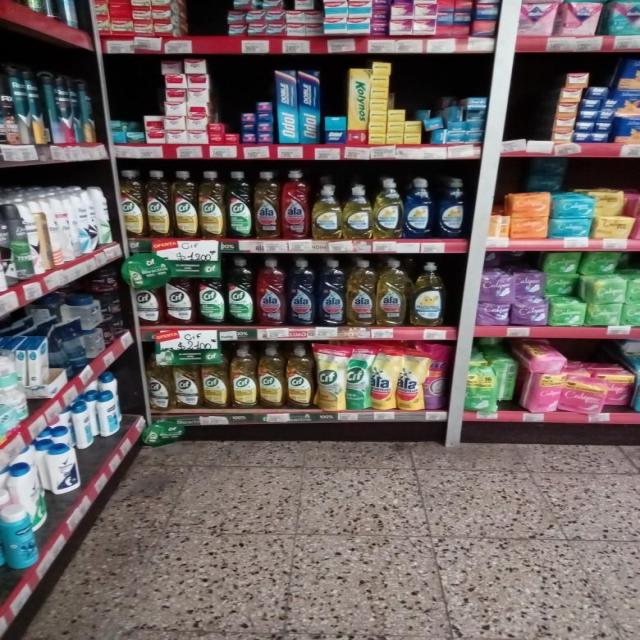ala_conc_amarillo: (376, 258, 408, 327), (347, 258, 375, 327), (253, 170, 280, 240)
ala_conc_azul: (317, 258, 345, 327), (288, 258, 316, 327)
ala_conc_rojo: (256, 258, 286, 327), (281, 169, 310, 240)
cif_conc_bot_amarilla: (118, 169, 145, 238), (198, 170, 225, 238), (286, 345, 314, 409), (146, 169, 171, 238), (172, 170, 197, 238), (230, 346, 257, 408), (202, 344, 228, 408), (258, 344, 284, 408), (174, 347, 200, 409), (146, 349, 172, 411)
cif_conc_botella_roja: (165, 270, 196, 326), (132, 281, 164, 326)
cif_conc_botella_verde: (198, 256, 225, 326), (227, 256, 254, 326), (226, 170, 252, 239)
cif_conc_sachet_amarillo: (316, 343, 345, 411)
magistral_con_amarillo: (411, 261, 447, 327), (374, 178, 402, 240), (312, 184, 341, 241), (343, 184, 372, 240)
magistral_con_azul: (404, 178, 435, 240), (437, 177, 467, 239)
